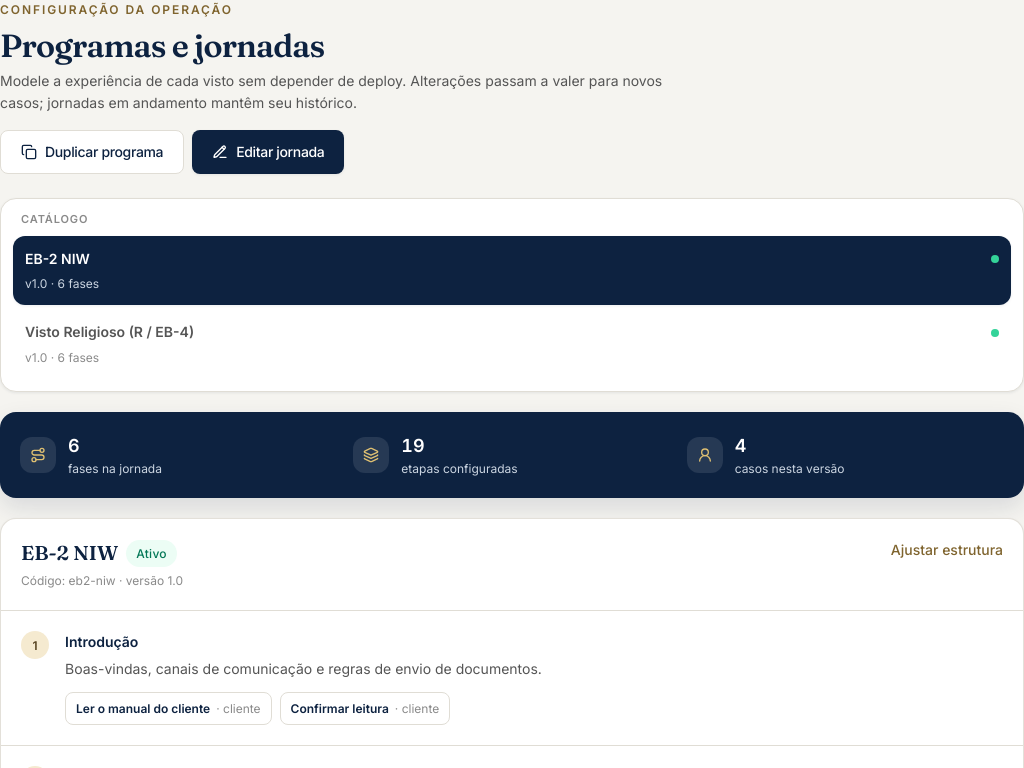
Test case: E06-S05 — editor de requisito (AC-1, AC-3, AC-7) › renderiza campos do requisito e a seção de IA só com o toggle ligado; bloqueia salvar com skill vazia
Check: the text "Visto Religioso (R / EB-4)" is shown, box [25,321,194,344]
Step 1. Click the button "Editar jornada" → (268, 152), box [192,130,344,174]
(page scrolled)
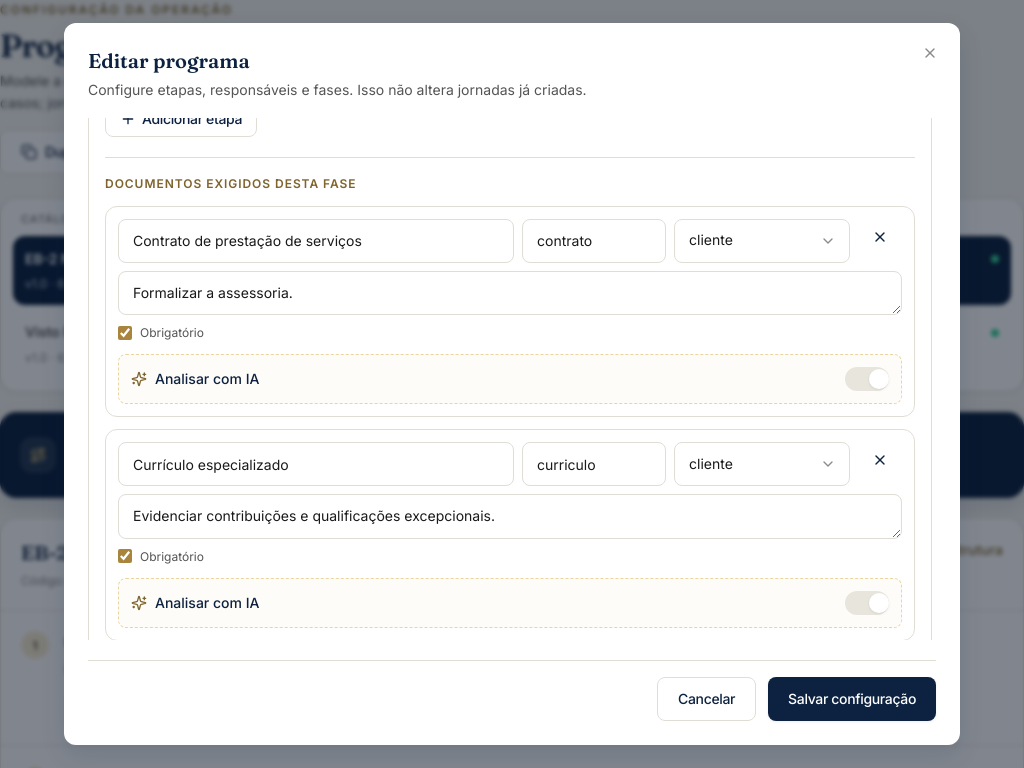
Check: the heading "Editar programa" is shown, box [88,48,250,73]
Check: the 1st field named "Título do documento" is shown, box [118,219,514,263]
Check: the 1st dropdown named "Emitido por" is shown, box [674,219,850,263]
Step 2. Click the 1st switch → (867, 379), box [845,367,889,391]
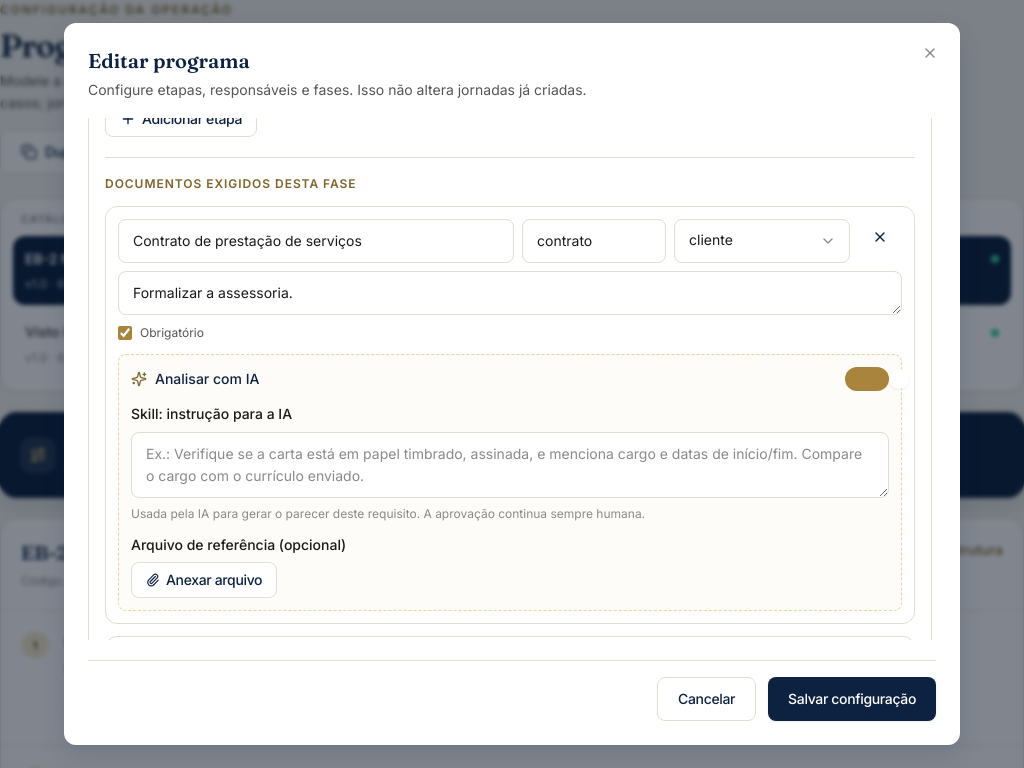
Check: the text box labelled "Skill: instrução para a IA" is shown, box [131,432,889,498]
Check: the text "Arquivo de referência (opcional)" is shown, box [131,536,346,552]
// AC-3: salvar com toggle ligado e skill vazia é bloqueado na UI, com mensagem.
Step 3. Click the button "Salvar configuração" → (852, 699), box [768,677,936,721]
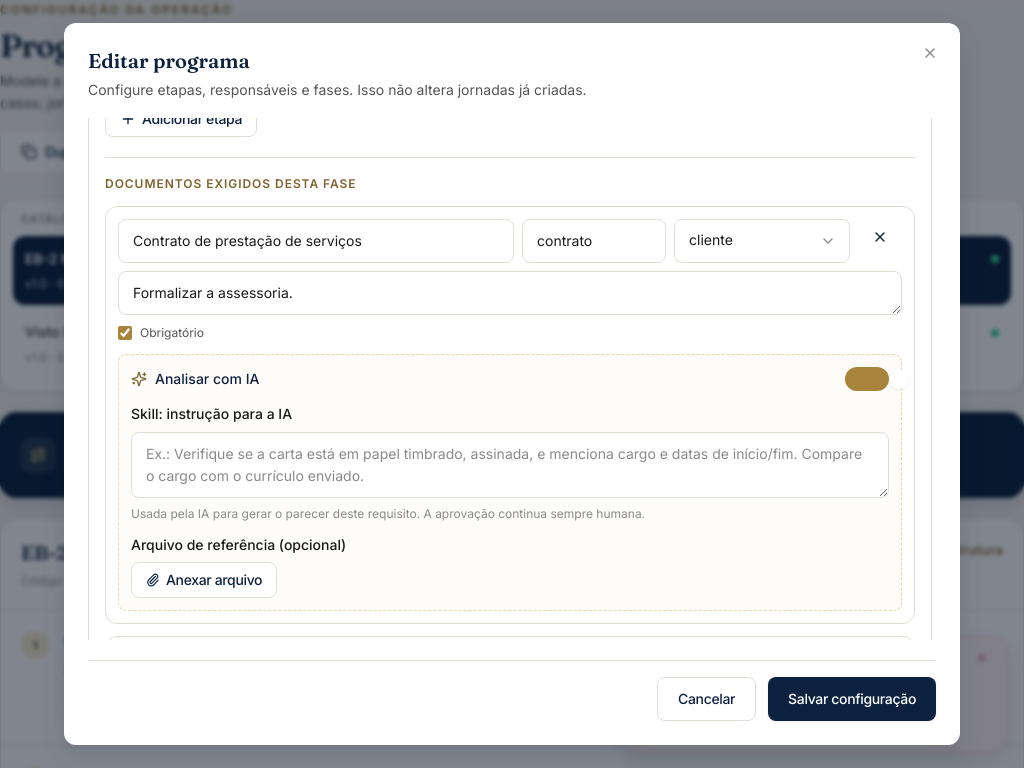
Check: the text "sem instrução (skill)" is shown, box [667,651,937,736]
Check: the heading "Editar programa" is shown, box [88,48,250,73]
// Com skill preenchida, o salvamento persiste a configuração e fecha o editor.
Step 4. Replace the text in the text box labelled "Skill: instrução para a IA" with "Verifique timbrado, assinatura e período" → (510, 465), box [131,432,889,498]
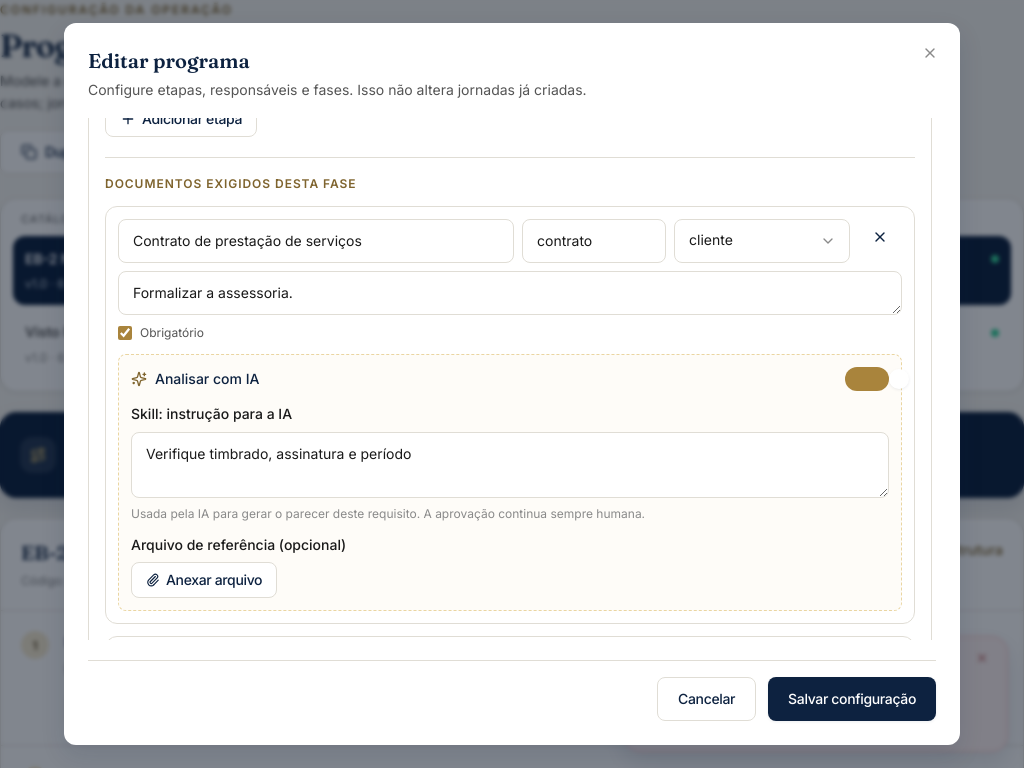
Step 5. Click the button "Salvar configuração" → (852, 699), box [768,677,936,721]
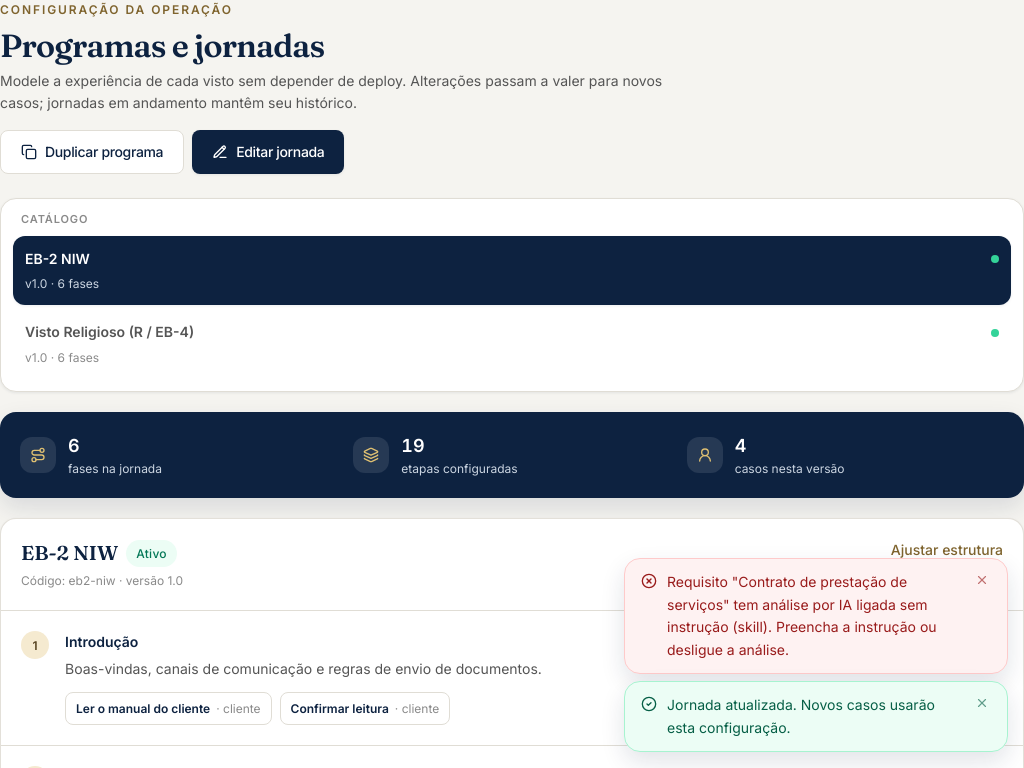
Check: the heading "Editar programa" is gone
